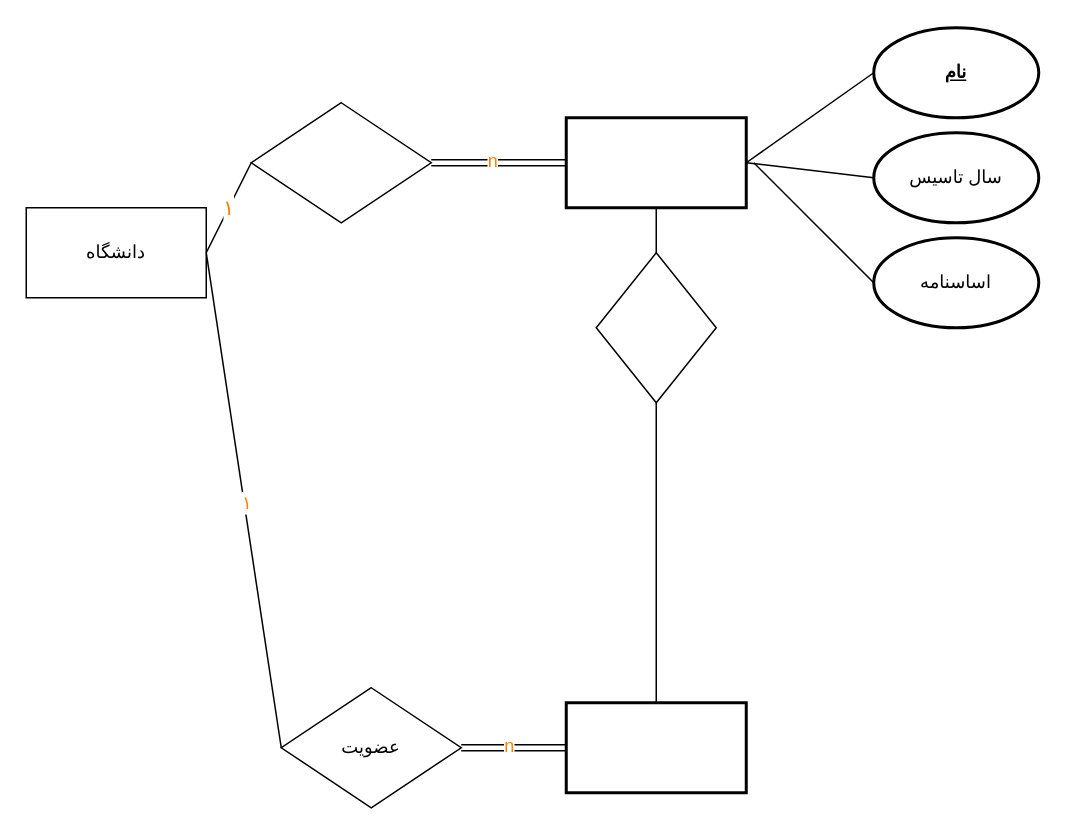
This 1067x834 diagram has some shape labels left out. The shapes that lost their labels are listed below. From the top down, each one's centre as x and y in pixels, then its label:
(x=340, y=162): تشکیل شدن
(x=655, y=162): تشکل
(x=655, y=747): دانشجو
